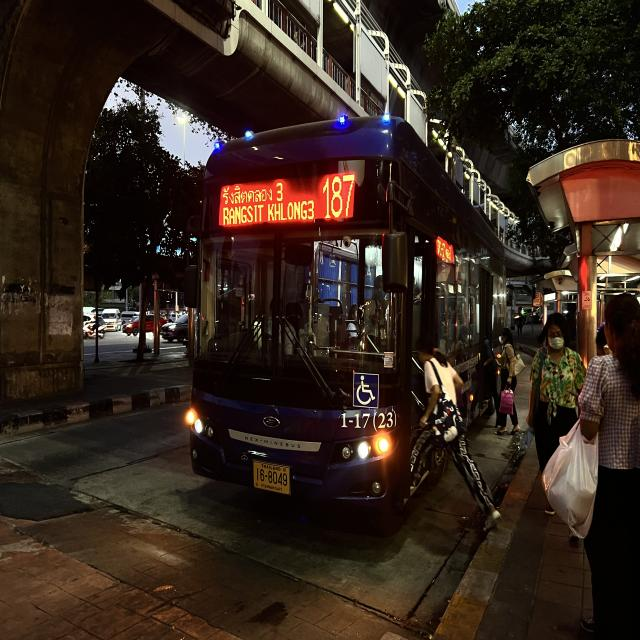Bus-Line-Number: (321, 169, 358, 222)
Destination-Sign-Normal: (219, 176, 318, 229)
TSB-Bus: (179, 108, 512, 538)
